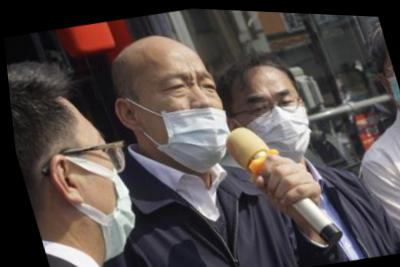OK: (58, 117, 145, 258), (229, 74, 320, 167), (334, 75, 370, 112)
WRONG: (133, 54, 239, 175)
